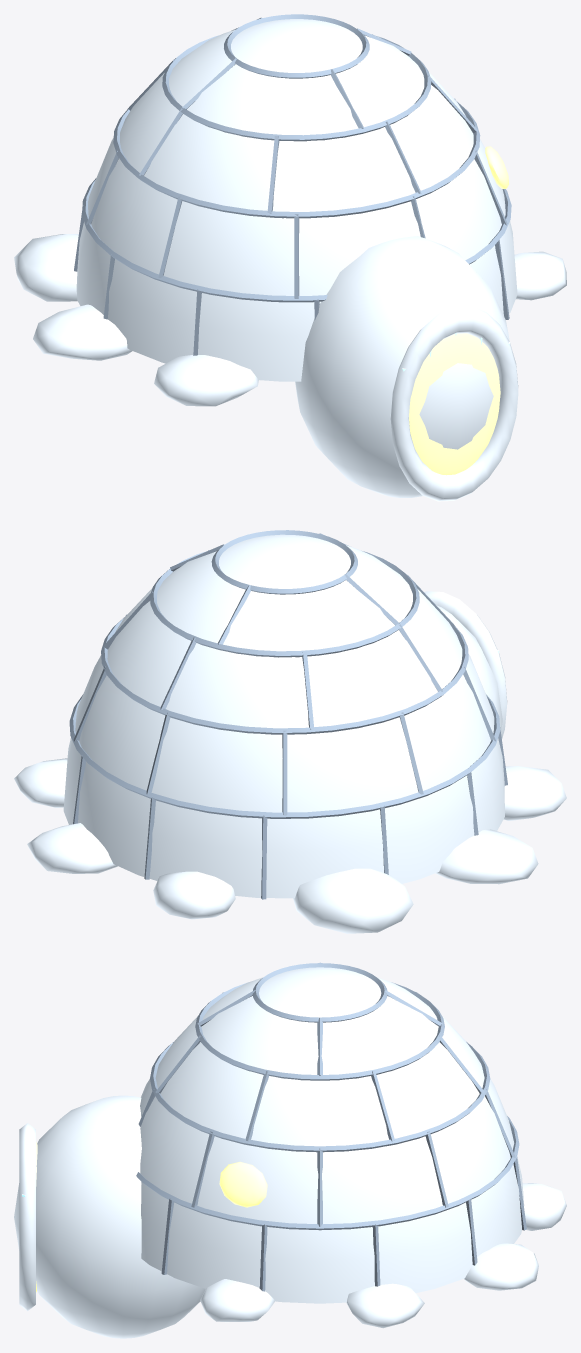
The model's file is igloo.glb.
3 views of the same model, one above another, from view 1: azimuth 30°, elevation 25°; view 2: azimuth 150°, elevation 25°; view 3: azimuth 270°, elevation 25° (orthographic). The views are drawn at different scales.
Visible parts, largest first — view 1: igloo; view 2: igloo; view 3: igloo.
Boxes of the visible parts, box(x1,y1,x2,y2) form: igloo: box(14, 14, 566, 501); igloo: box(14, 530, 566, 933); igloo: box(14, 962, 566, 1338).
Size of the model in its own units: 1.88 by 1.41 by 2.02.
